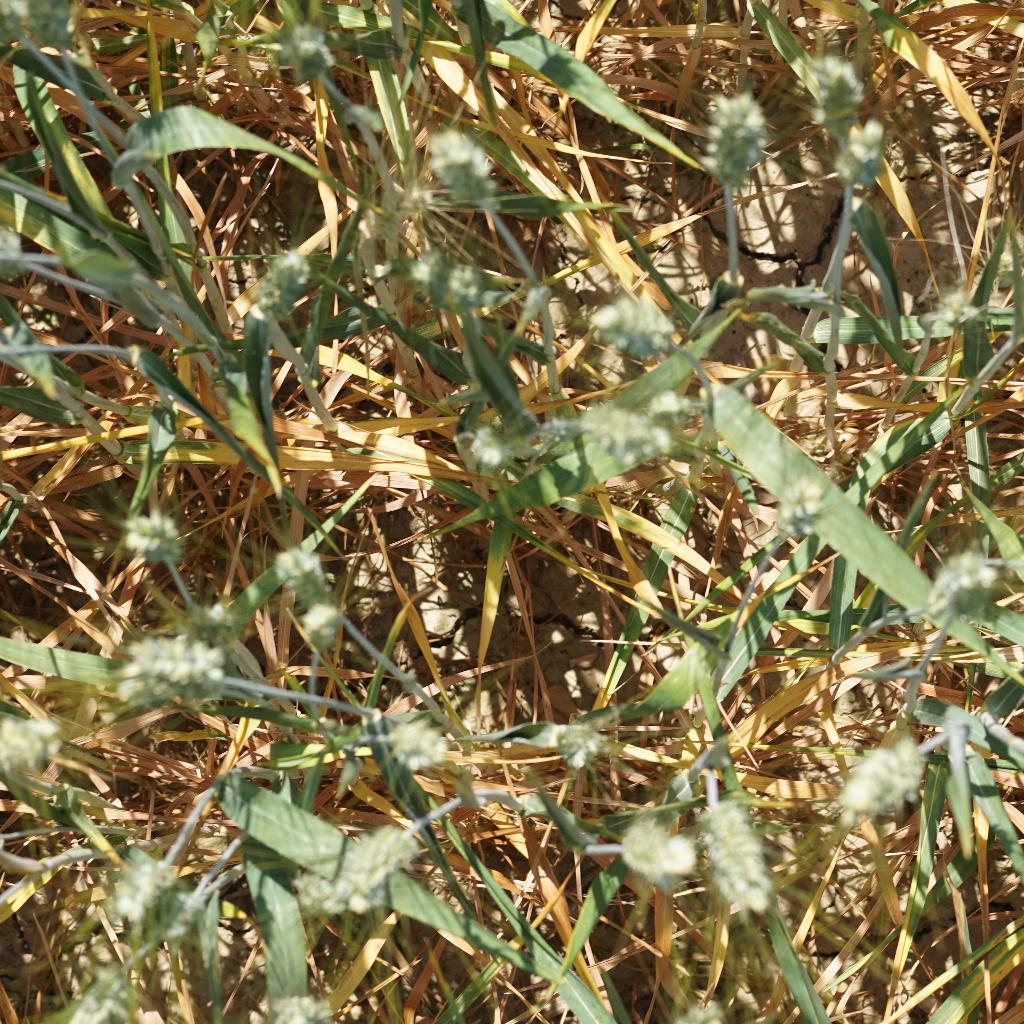0-0: (298, 817, 426, 919), (687, 787, 778, 912), (406, 112, 511, 213), (126, 628, 247, 698), (834, 727, 923, 821), (582, 281, 681, 359), (694, 88, 769, 186), (606, 810, 698, 889), (757, 470, 852, 546), (395, 247, 492, 313), (918, 535, 996, 616), (55, 953, 141, 1024), (254, 235, 320, 321), (105, 839, 178, 914), (583, 410, 669, 473), (818, 120, 894, 191), (266, 539, 339, 606), (272, 15, 348, 79), (145, 880, 212, 952), (15, 0, 89, 63), (378, 710, 456, 769), (0, 712, 75, 773), (544, 718, 613, 782), (810, 62, 869, 134), (451, 413, 516, 477), (254, 978, 344, 1024), (933, 275, 998, 335), (288, 604, 354, 662), (124, 514, 183, 565), (653, 384, 706, 434)
